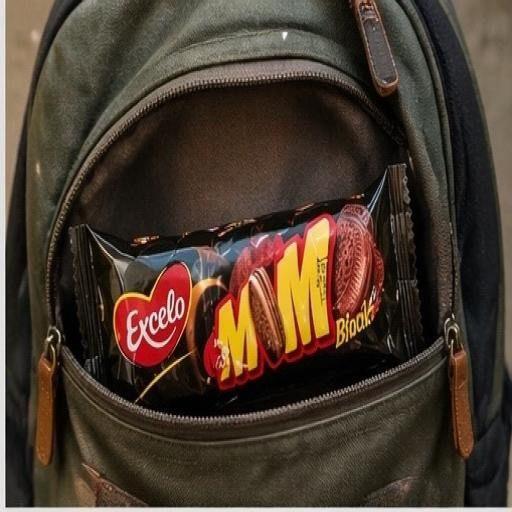MOMO: (51, 144, 437, 459)
